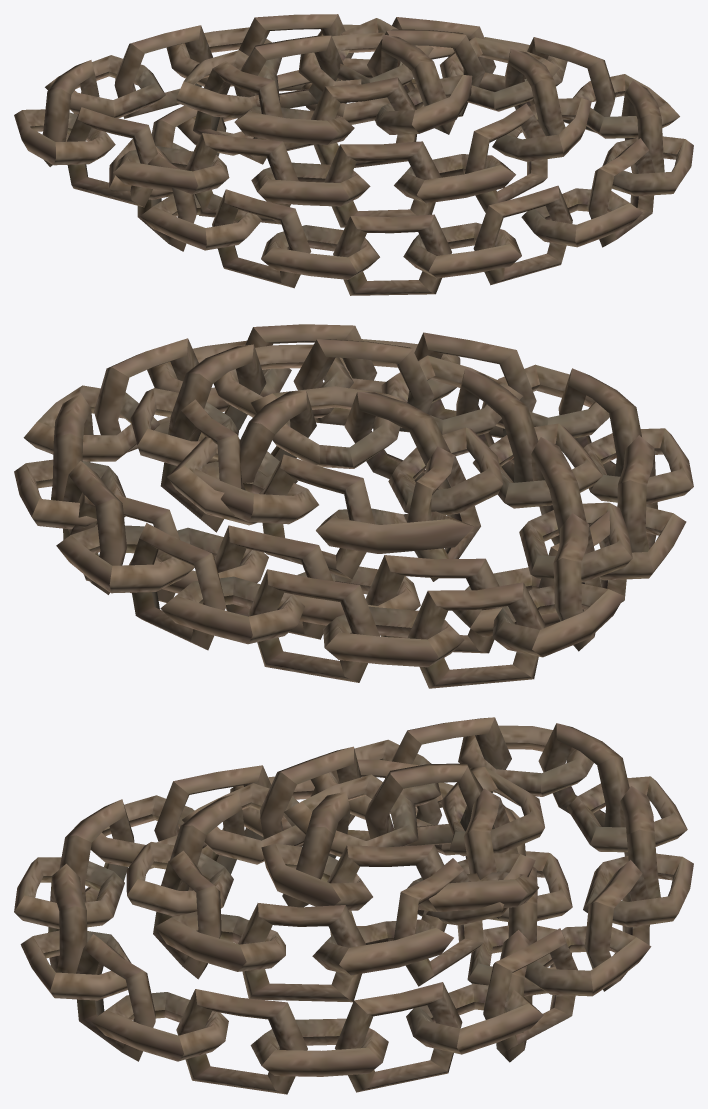
3 views of the same model, one above another, from view 1: azimuth 30°, elevation 25°; view 2: azimuth 150°, elevation 25°; view 3: azimuth 270°, elevation 25° (orthographic). The views are drawn at different scales.
Parts seen in each view (by area): view 1: SM_GroundChains_03_LOD0; view 2: SM_GroundChains_03_LOD0; view 3: SM_GroundChains_03_LOD0.
Part boxes in pixels (x1,y1,x2,y2): SM_GroundChains_03_LOD0: (14, 14, 693, 295); SM_GroundChains_03_LOD0: (14, 324, 693, 688); SM_GroundChains_03_LOD0: (14, 717, 693, 1094).
Size of the model in its own units: 1.04 by 0.2436 by 0.9718.
Materials: 1 (1 with a texture image).
